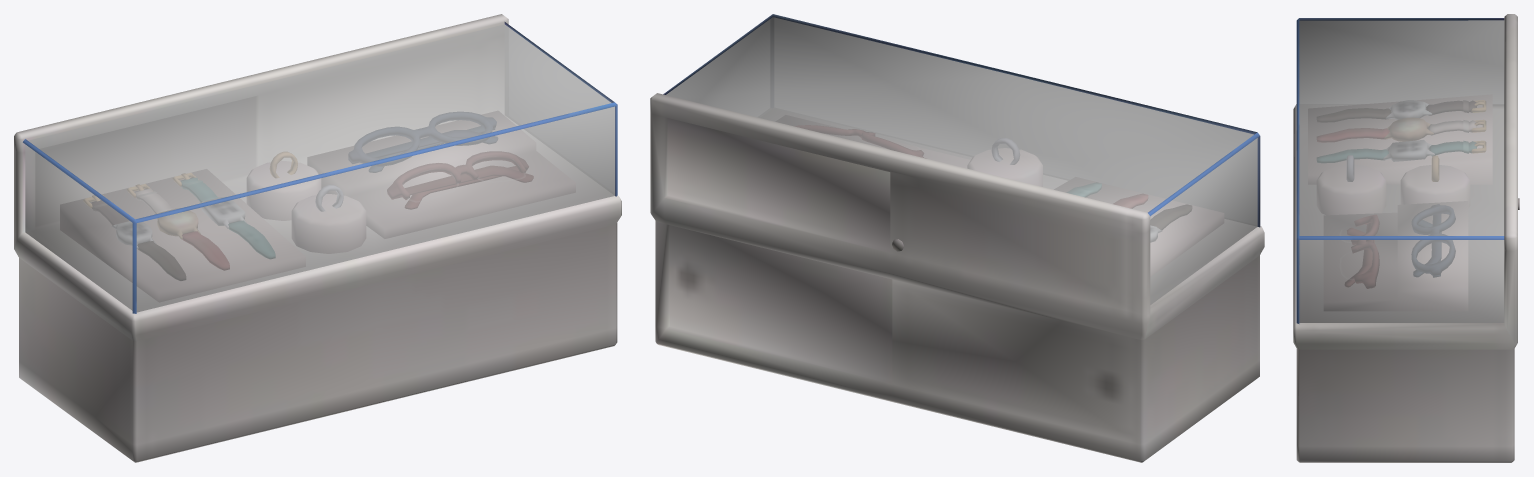
3 views of the same model, side by side, from view 1: azimuth 30°, elevation 25°; view 2: azimuth 150°, elevation 25°; view 3: azimuth 270°, elevation 25° (orthographic). The views are drawn at different scales.
Size of the model in its own units: 20 by 9.62 by 8.57.
Materials: 3 (3 with a texture image).
